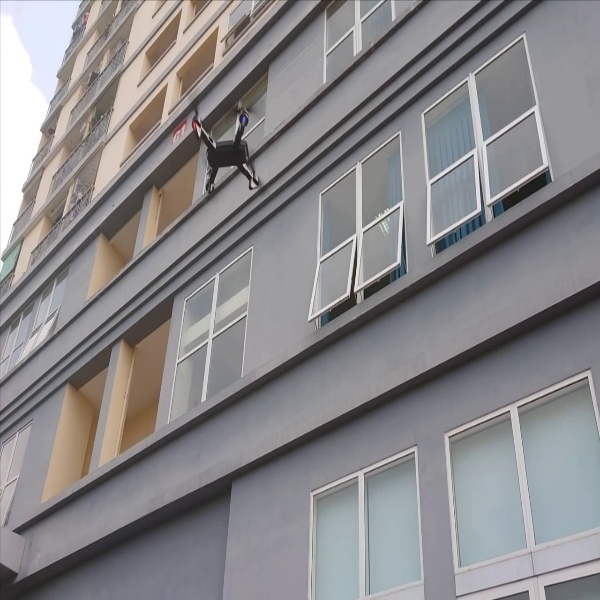drone: (181, 106, 264, 194)
